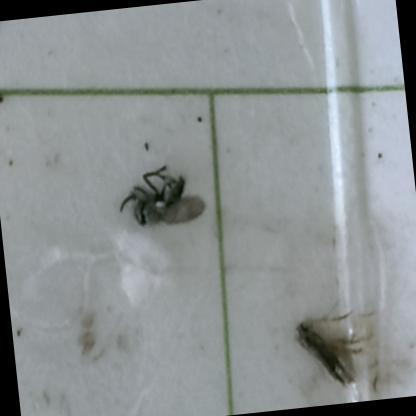prays_oleae: (282, 278, 382, 404), (111, 142, 215, 256)
